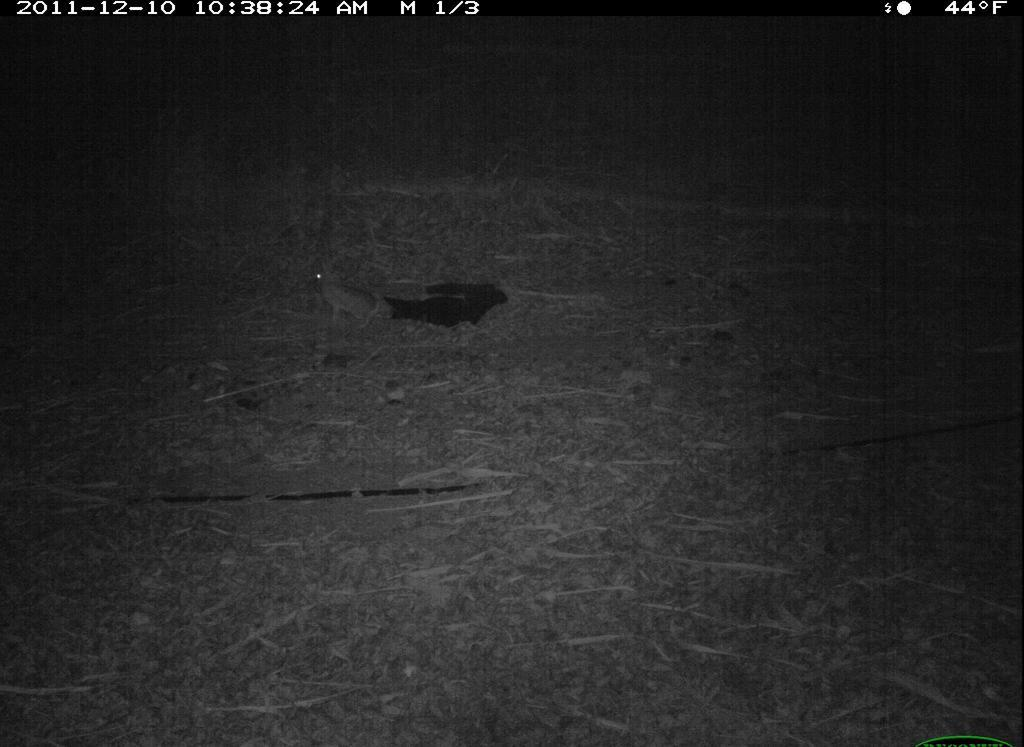rabbit: (301, 255, 400, 333)
